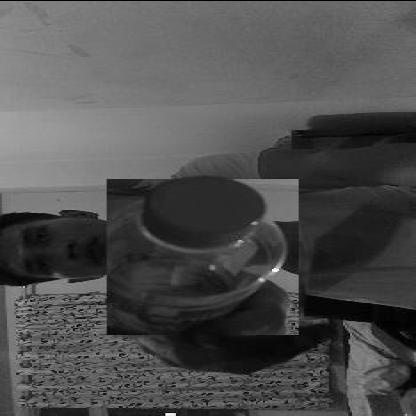plastic_bottles: (106, 178, 298, 334)
